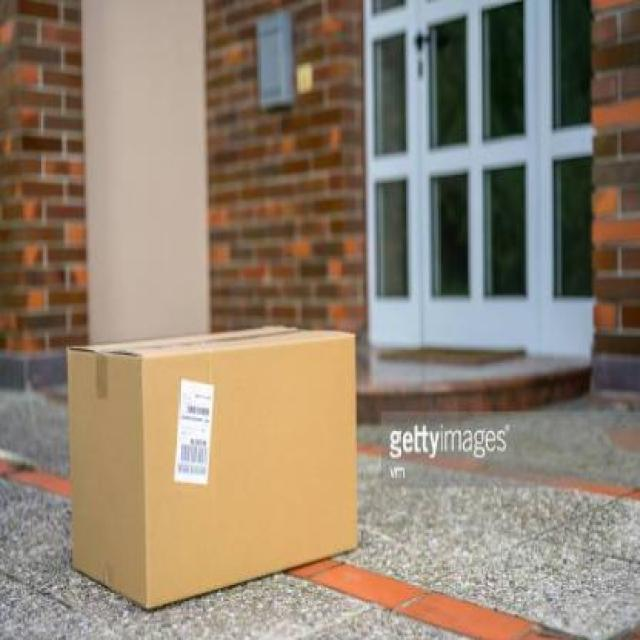box: (46, 325, 382, 634)
